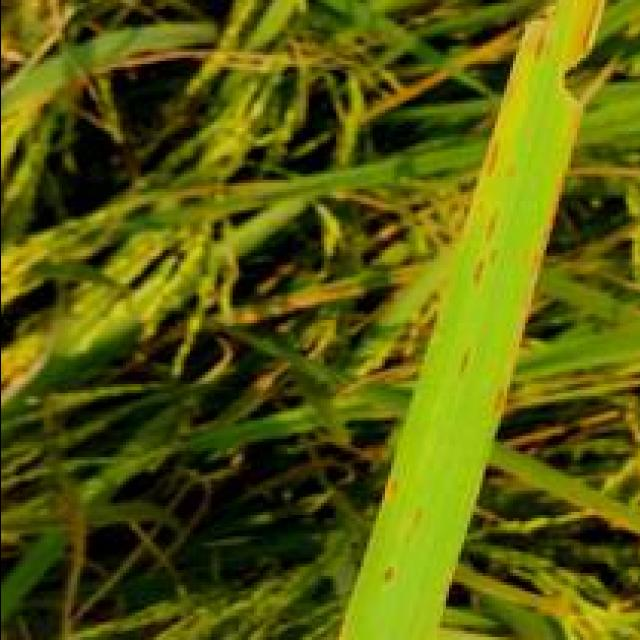Brown_Spot: (472, 207, 518, 293), (484, 125, 518, 180), (530, 15, 560, 58), (457, 332, 479, 381), (378, 554, 406, 588), (384, 467, 408, 502), (491, 384, 515, 418), (332, 628, 360, 640)
